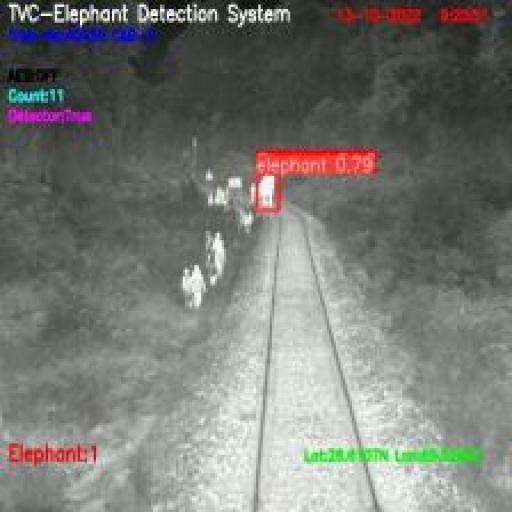Elephant: (256, 174, 277, 210)
